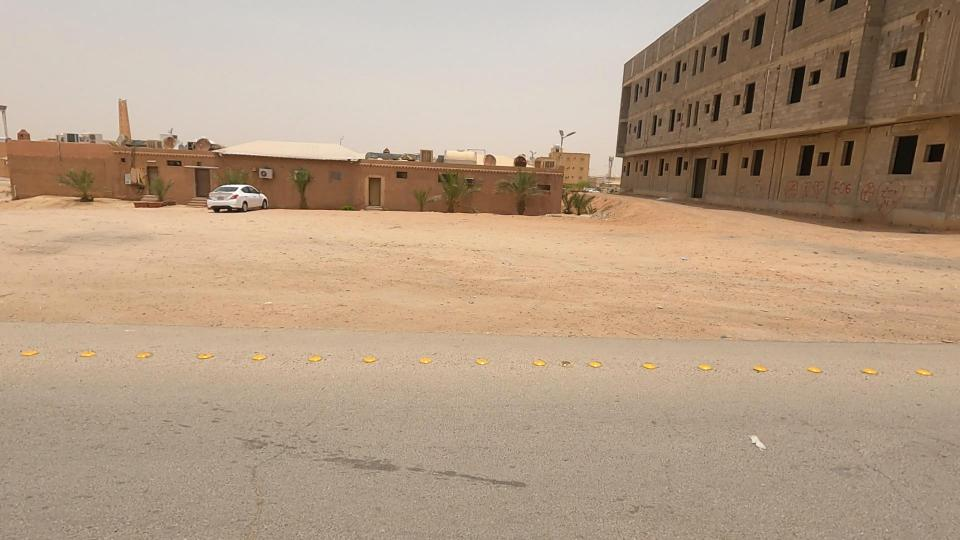GARBAGE: (721, 418, 788, 462), (638, 176, 696, 222), (667, 245, 697, 272)
